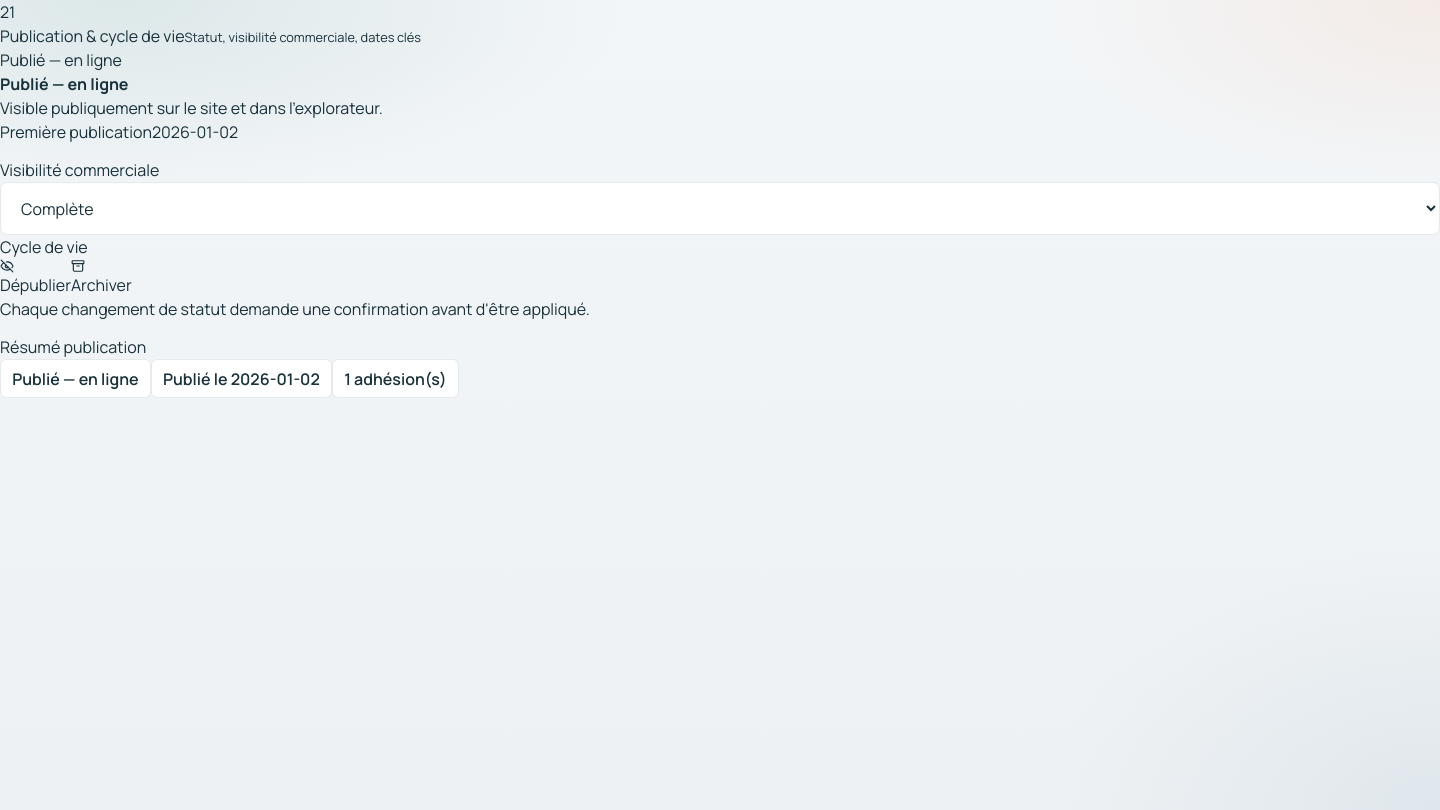
Test: SectionPublication (§21) › cancelling the confirmation closes it and leaves the status unchanged
Click the button "Dépublier" at (35, 278), box left=0, top=259, right=71, bottom=297
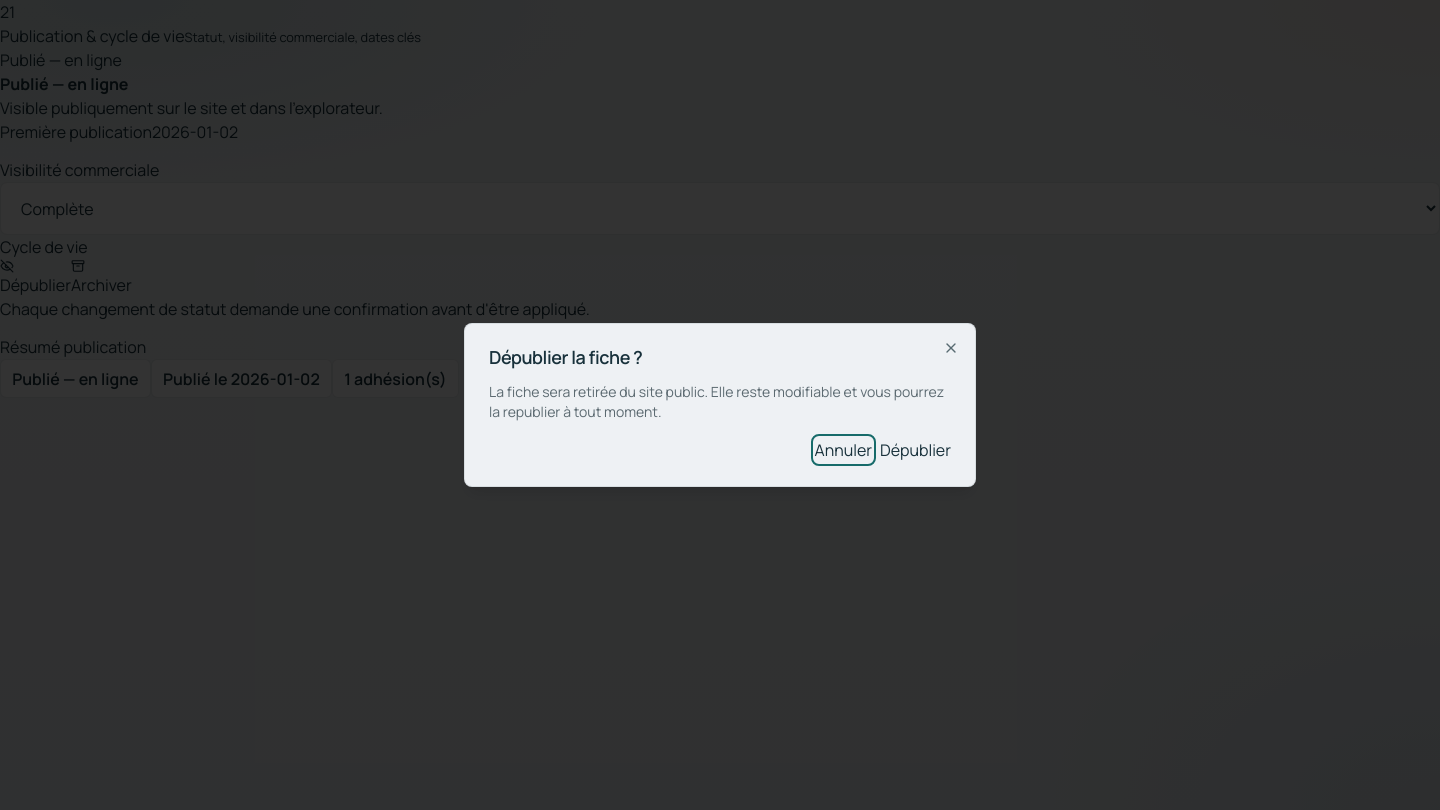
Result: the heading "Dépublier la fiche ?" is shown at left=489, top=345, right=642, bottom=369
Click the button "Annuler" at (843, 450), box left=815, top=438, right=872, bottom=462
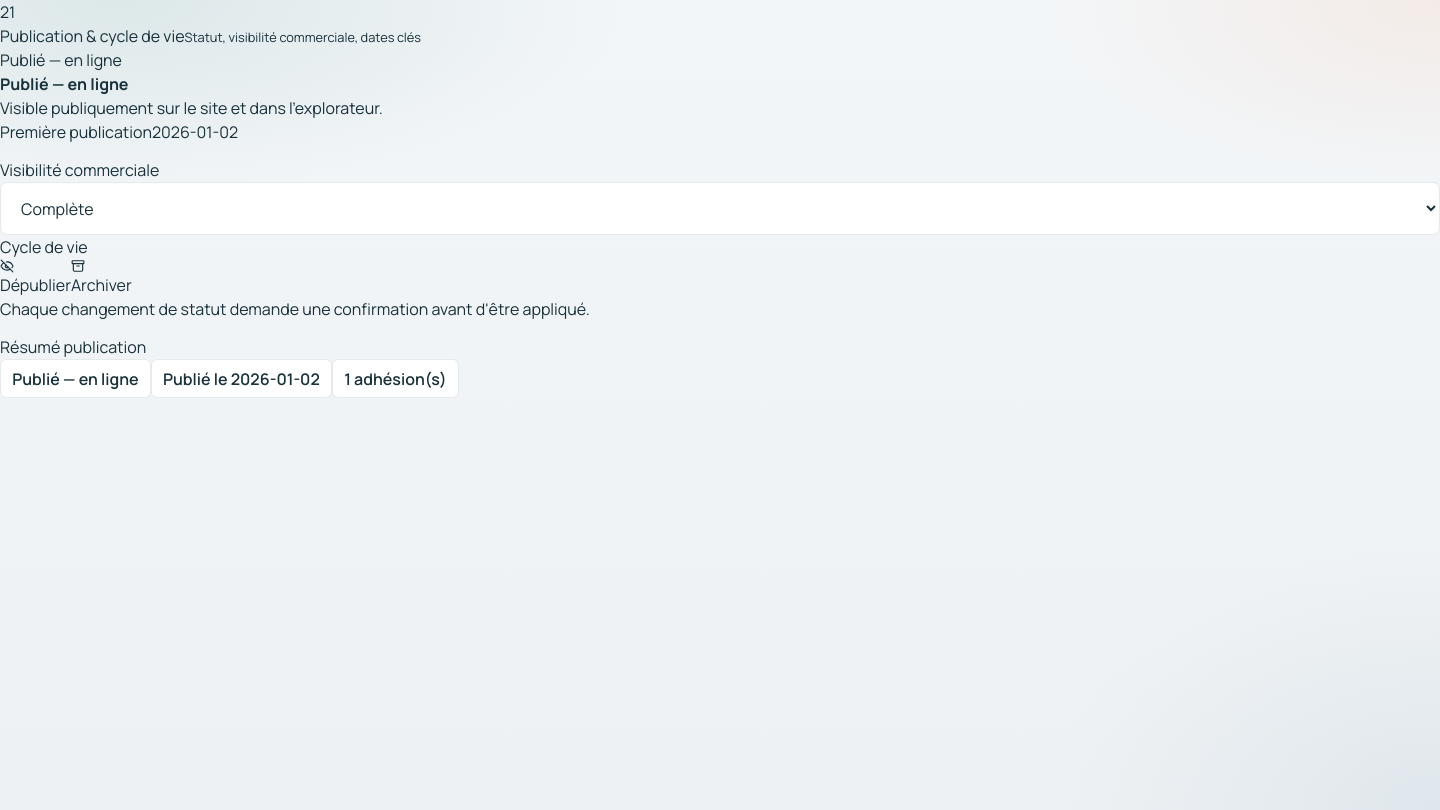
Result: the heading "Dépublier la fiche ?" is gone
